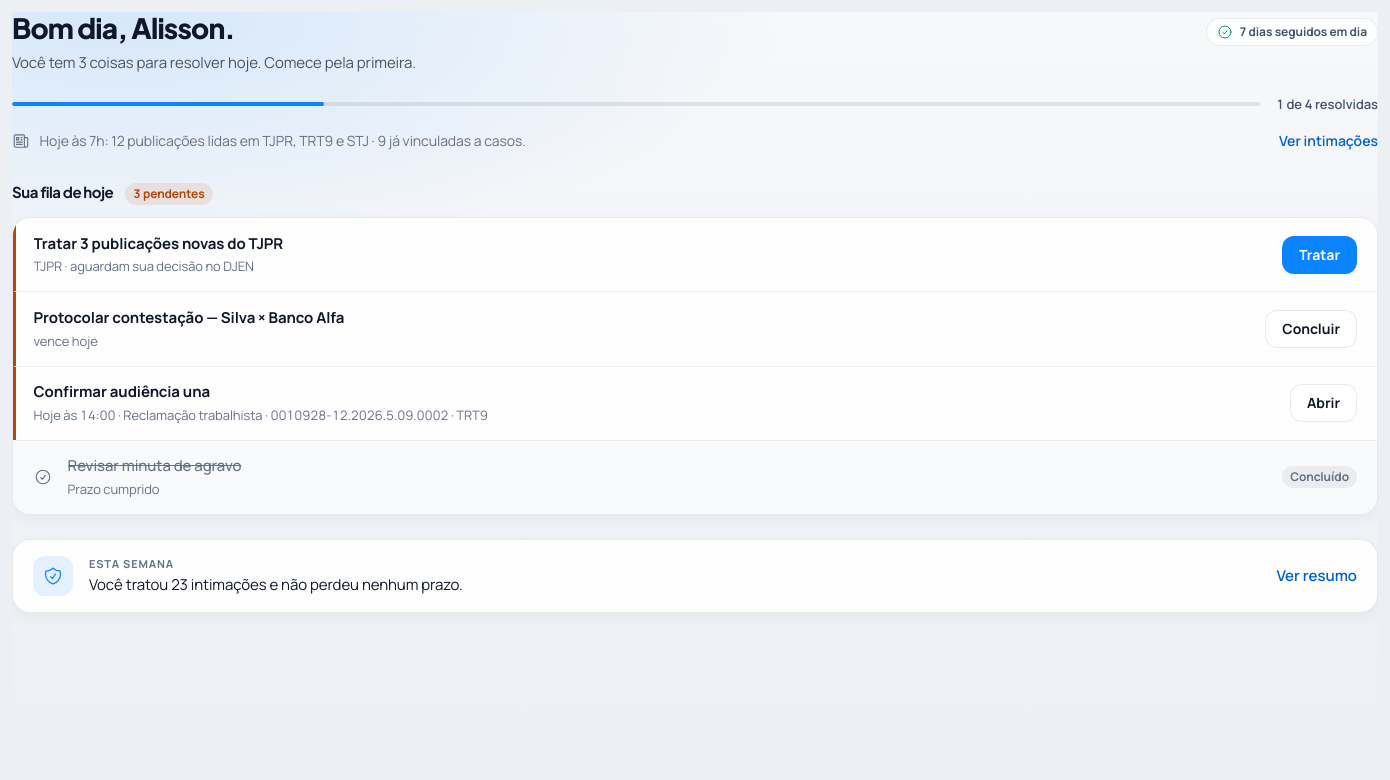
Test: DashboardHome (Seu dia) › "Concluir" trata o prazo e move a linha para concluidas sem recarregar
Click the button "Concluir" at (1311, 329), box [1265,310,1357,348]
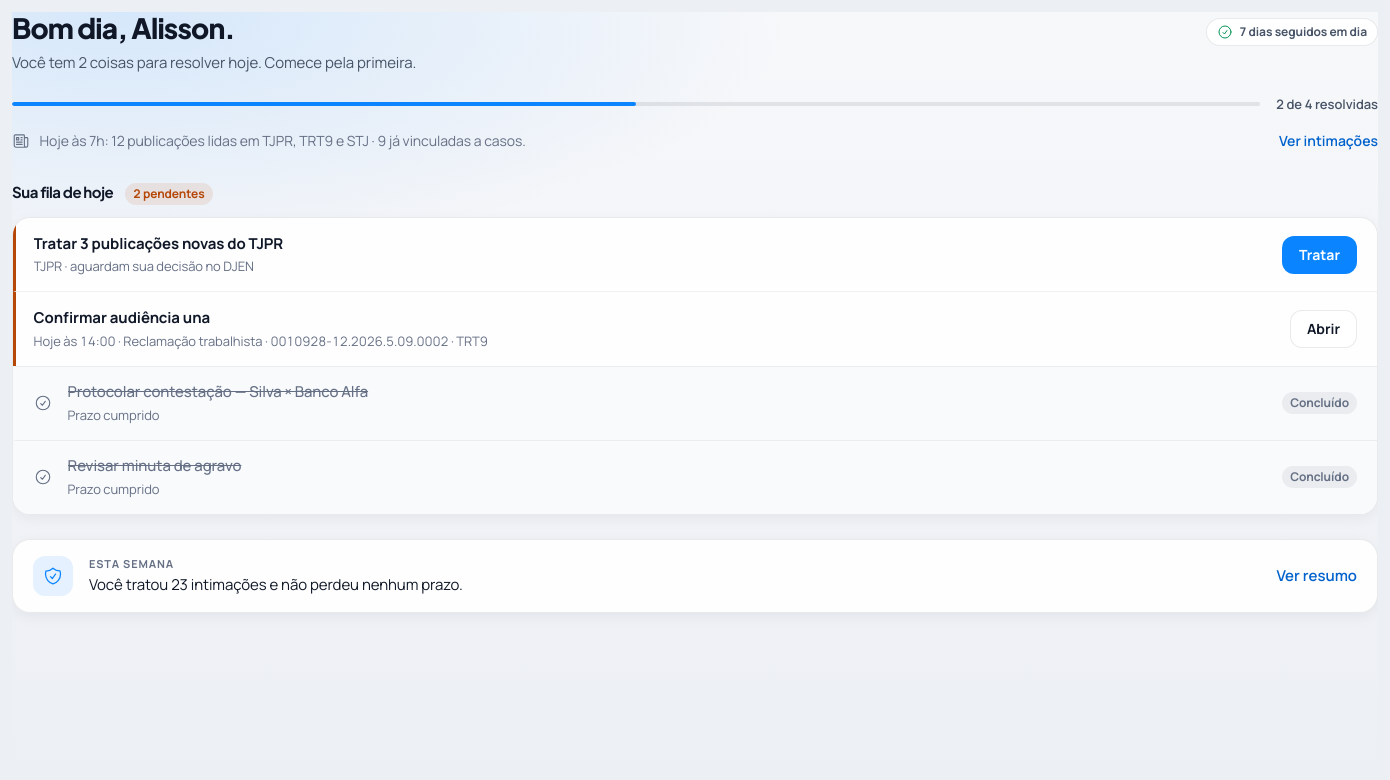
Expected: the number of list items with test id "fila-concluida" is 2, [13,366,1377,440]; [13,440,1377,514]
Expected: the number of list items with test id "fila-linha" is 2, [13,218,1377,291]; [13,291,1377,366]
Expected: the progress indicator named "2 de 4 resolvidas" is shown, [12,102,1260,106]
